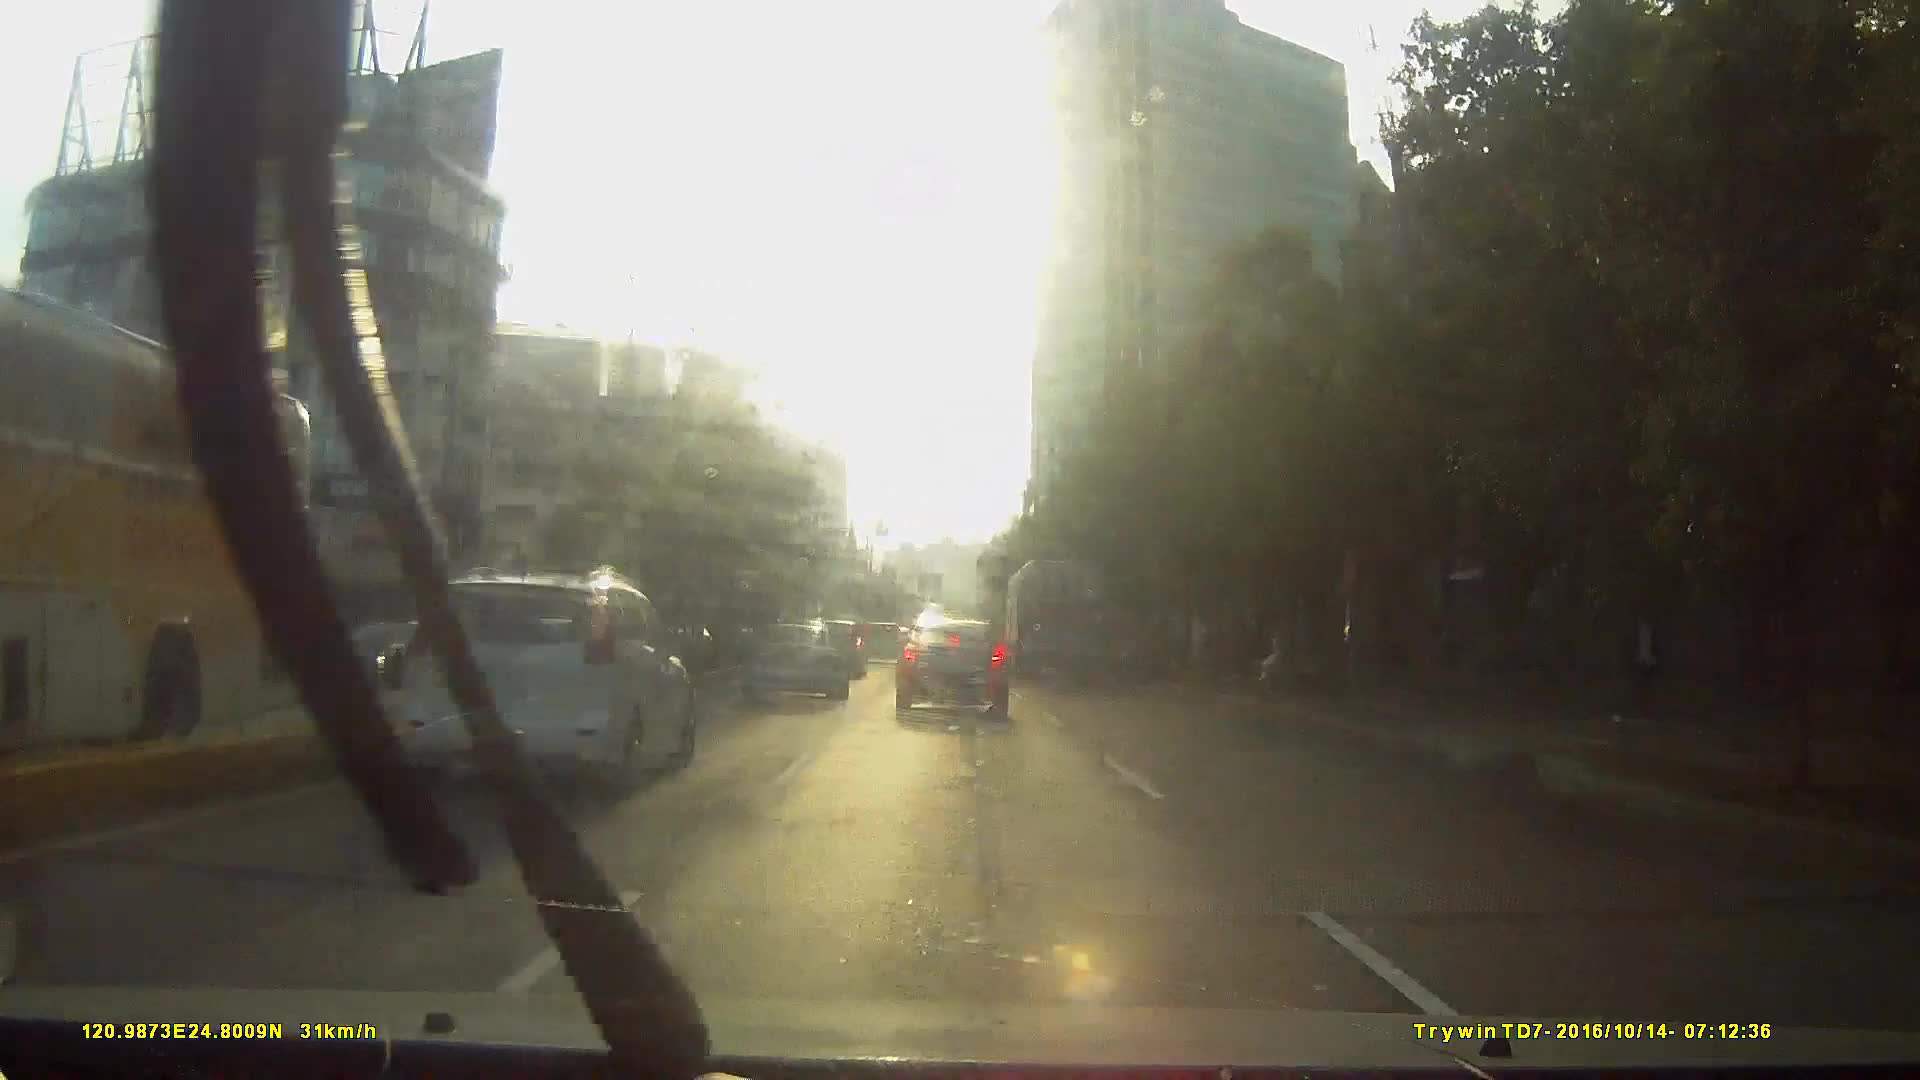pedestrian: (1602, 580, 1677, 740)
vehicle: (1, 284, 326, 797), (250, 556, 684, 868), (395, 567, 694, 792), (1005, 557, 1111, 684), (306, 616, 462, 701), (891, 613, 1007, 721), (737, 621, 846, 704), (854, 616, 903, 665)
